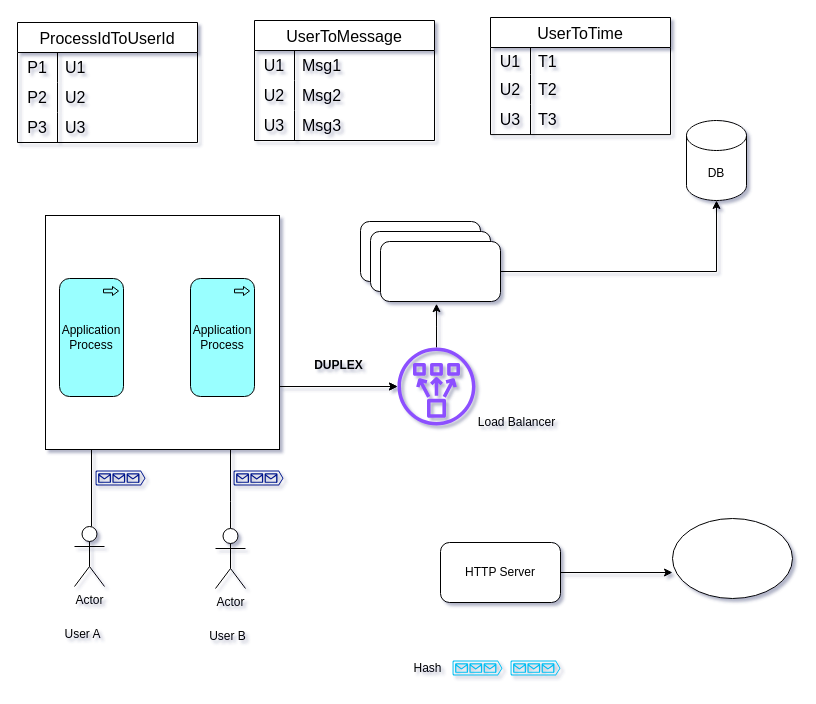
The diagram is 816 pixels wide and 704 high, and some of its shapes have lost their labels. Here are the shapes that lost their labels. From the top down, the centre of each, then its label:
At [440,271]: "Messaging Server".
At [732,558]: "CDN".
